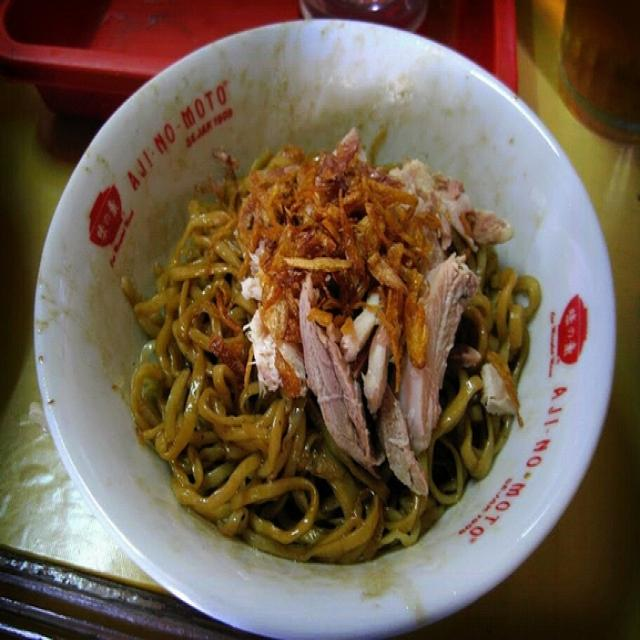面条主食: (55, 44, 596, 599)
